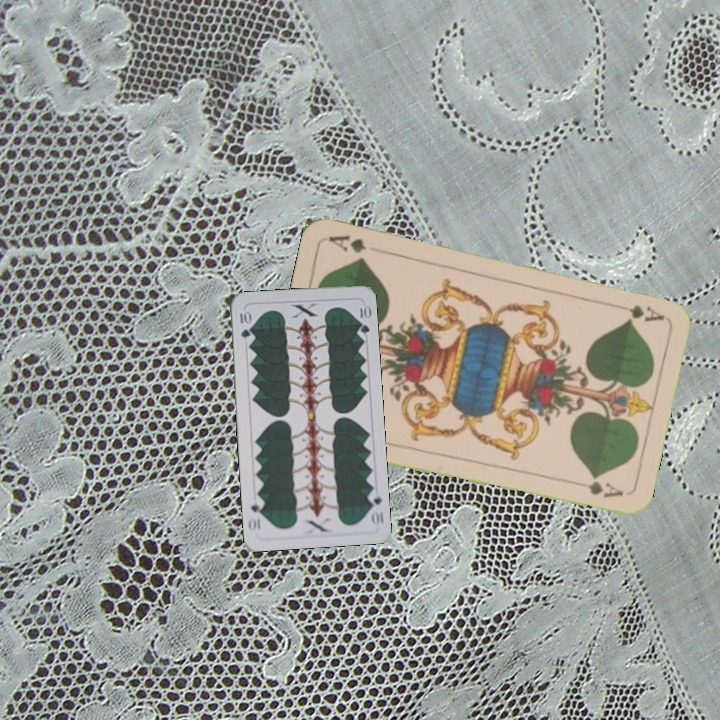G10: (365, 487, 386, 527), (236, 306, 253, 341)
GA: (608, 299, 667, 324)
